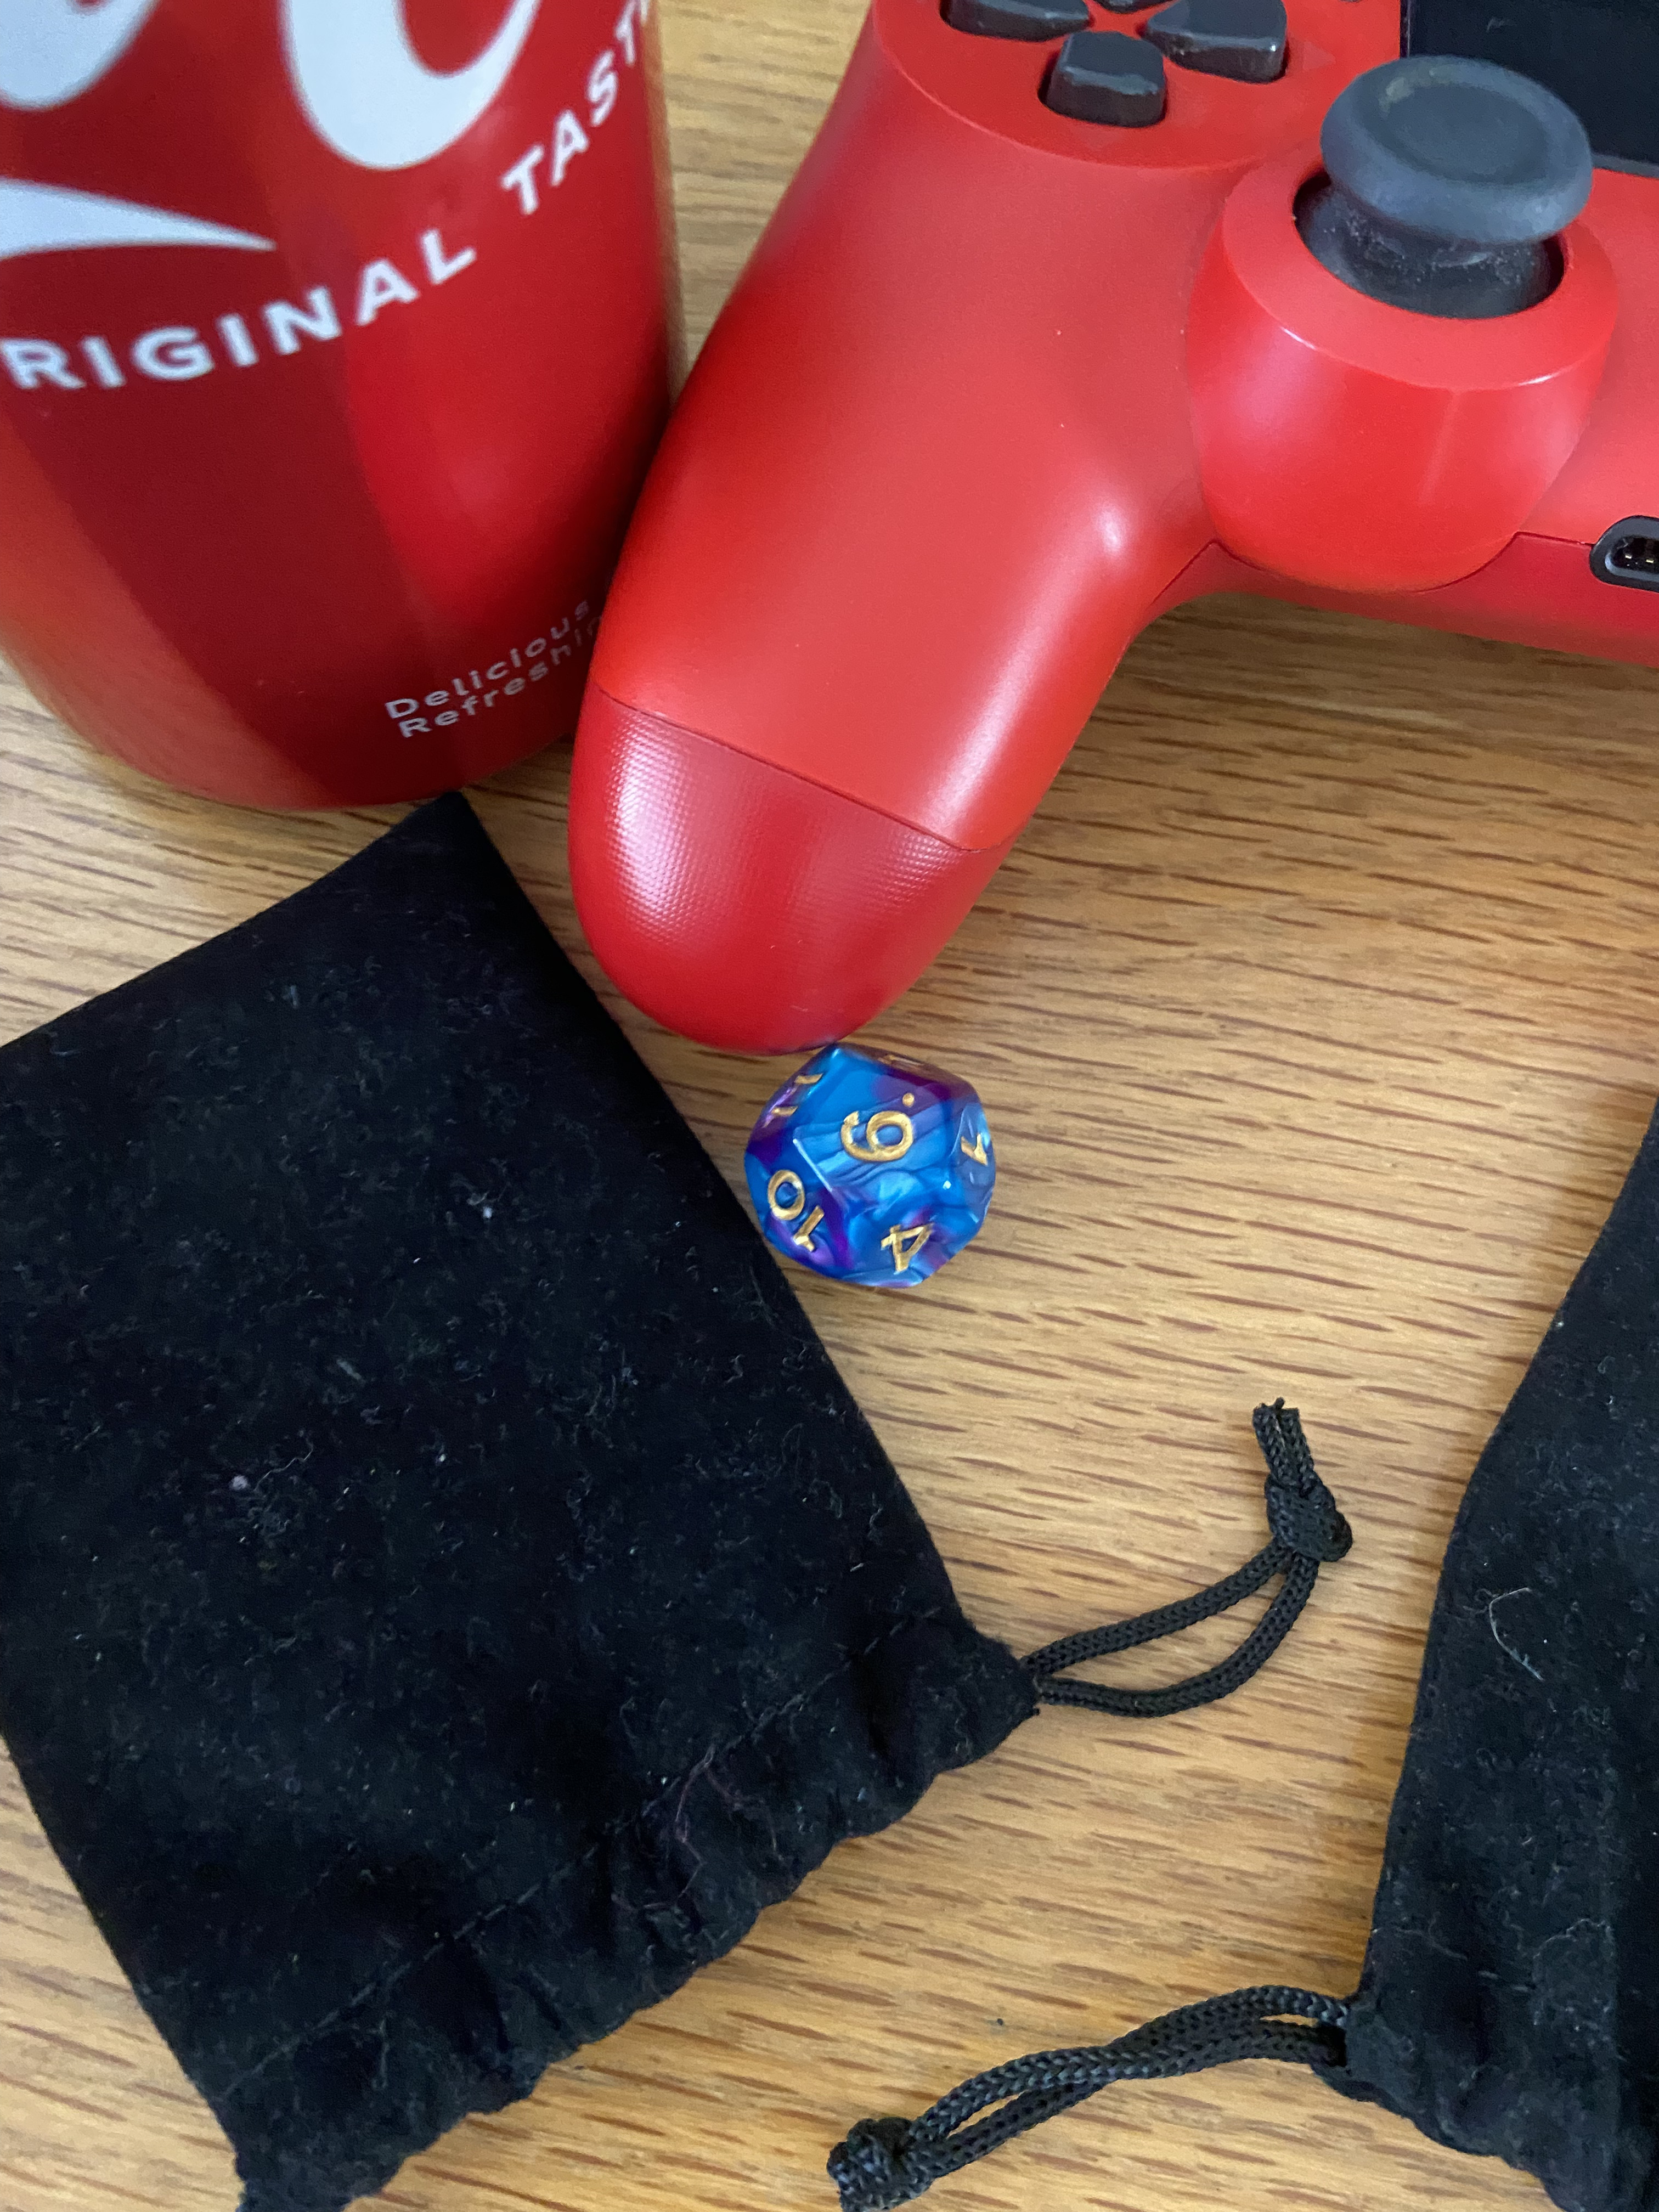six: (683, 986, 1075, 1339)
